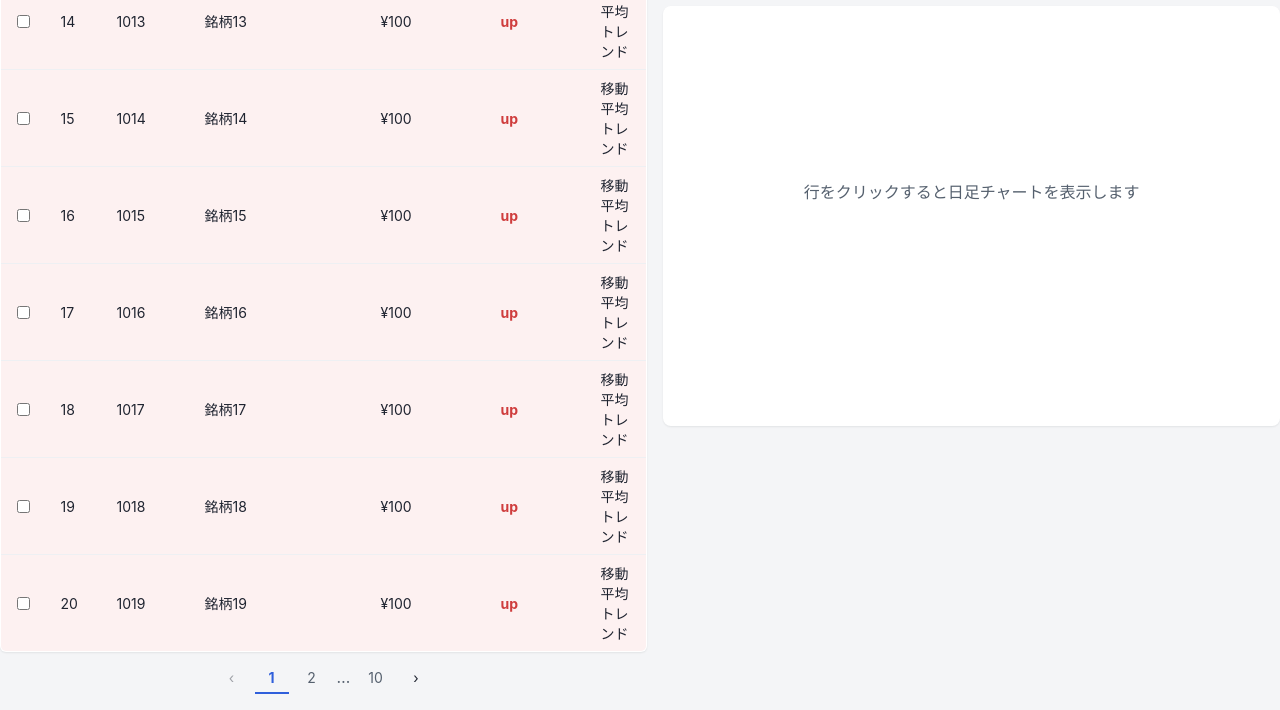
Test case: ScreeningResultsPanel pager › marks the current page as disabled with aria-current=page
(page scrolled)
Click the button named "次のページ" at (416, 677), box 399,660 -> 433,694
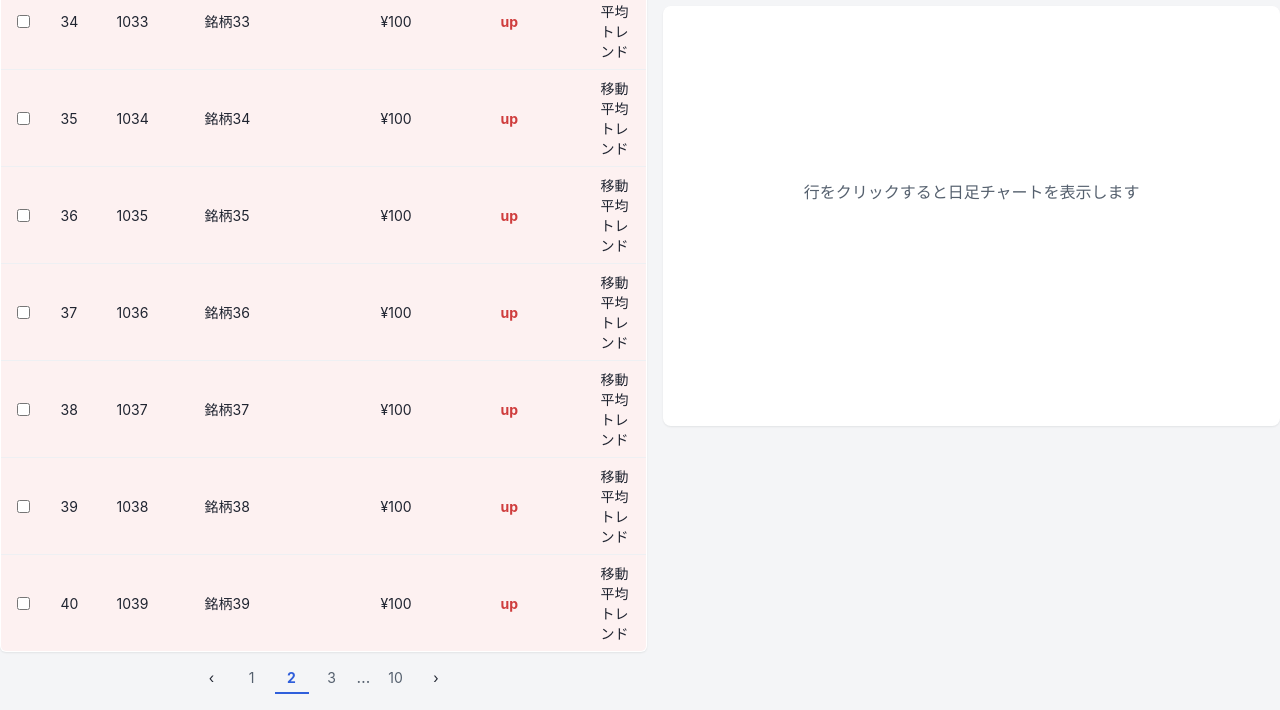
Click the button named "次のページ" at (436, 677), box 419,660 -> 453,694
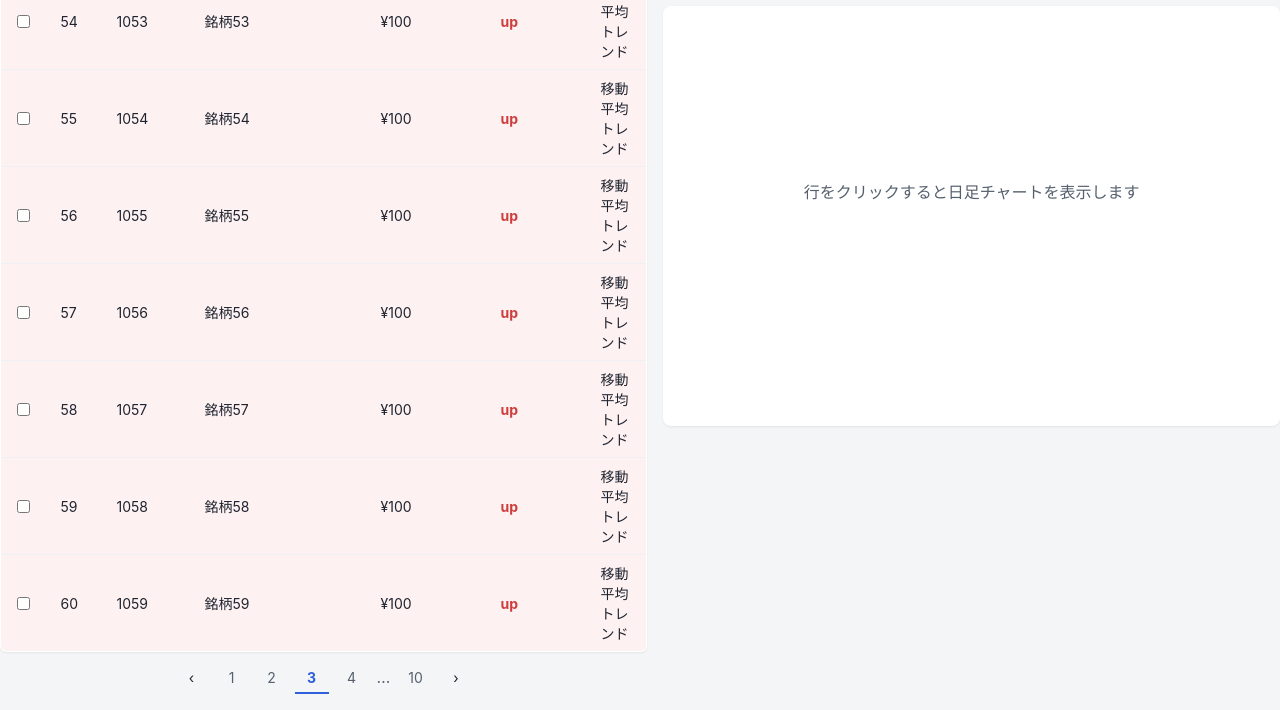
Click the button named "次のページ" at (456, 677), box 439,660 -> 473,694
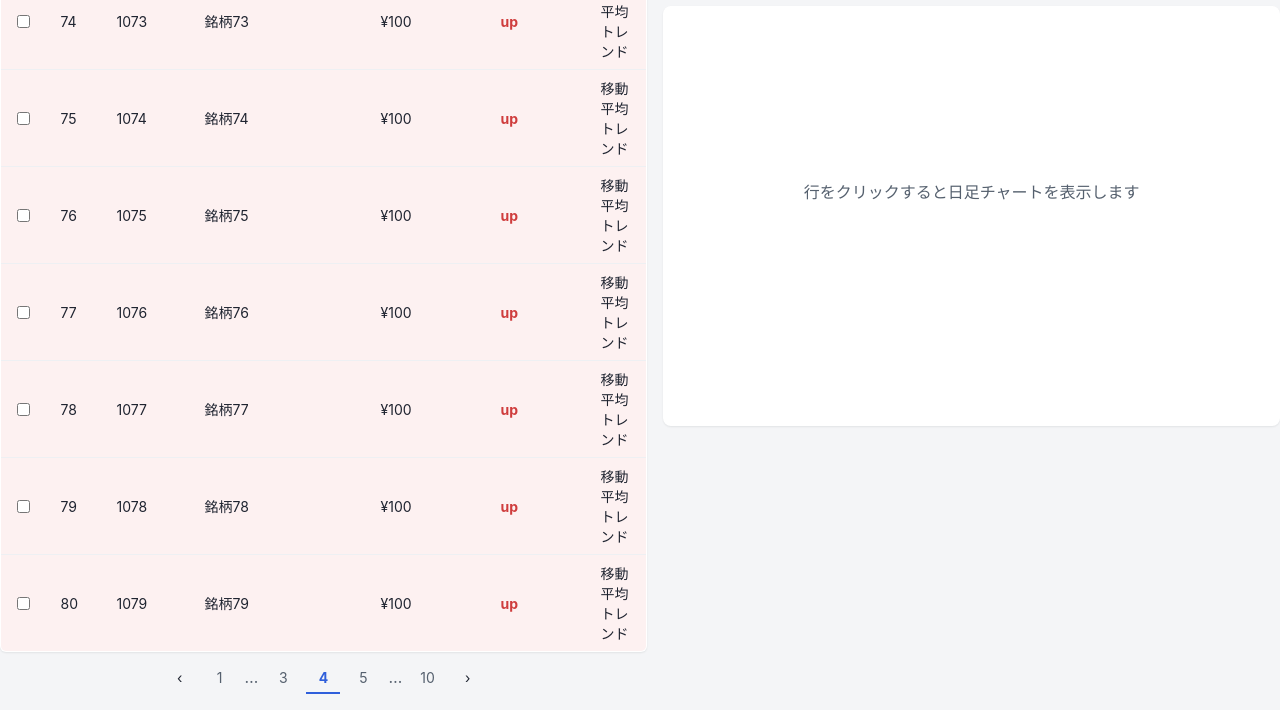
Click the button named "次のページ" at (468, 677), box 451,660 -> 485,694
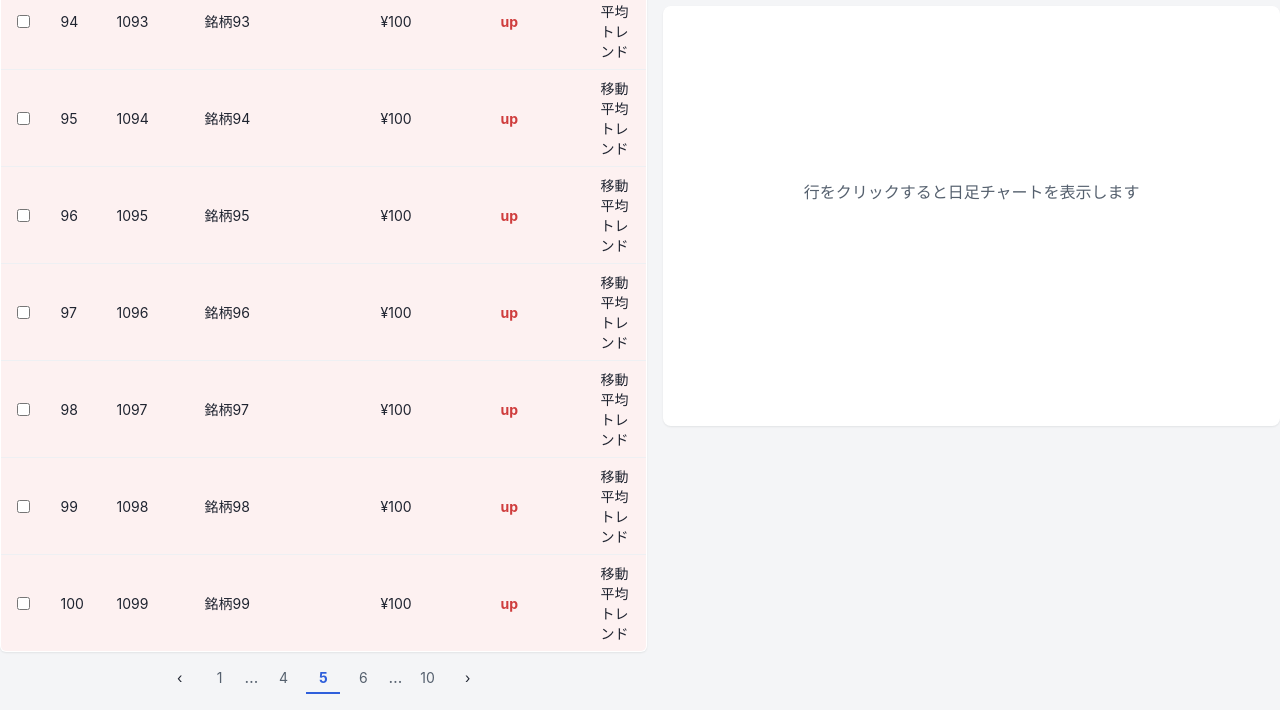
Now the button "5" is disabled, box 306,660 -> 340,694
